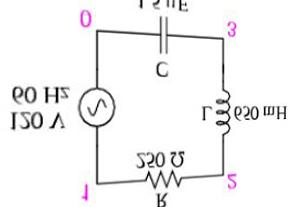resistor: (135, 166, 187, 190)
